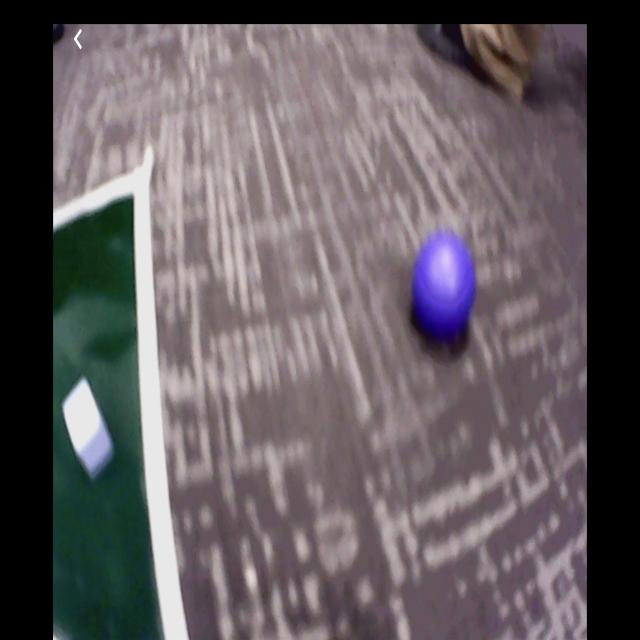ball: (412, 236, 477, 339)
